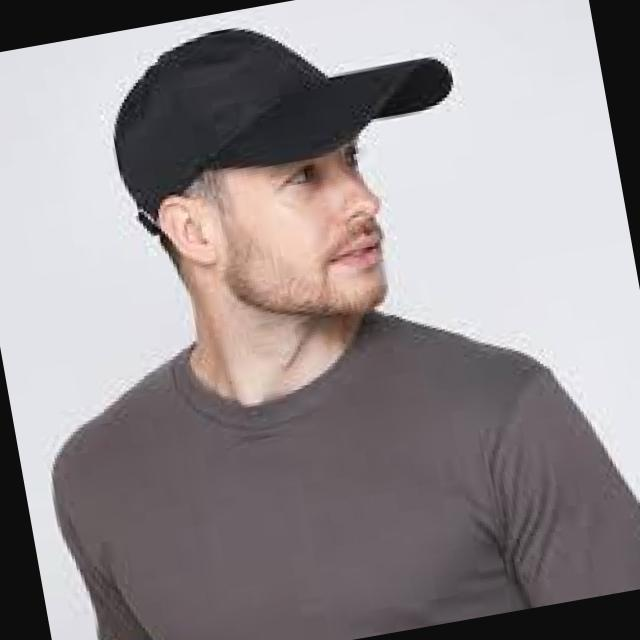cap: (73, 0, 489, 251)
